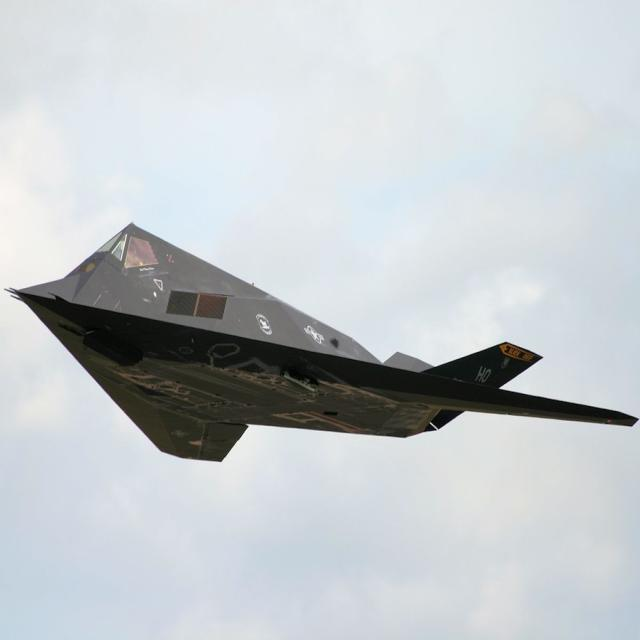F117: (0, 200, 640, 513)
